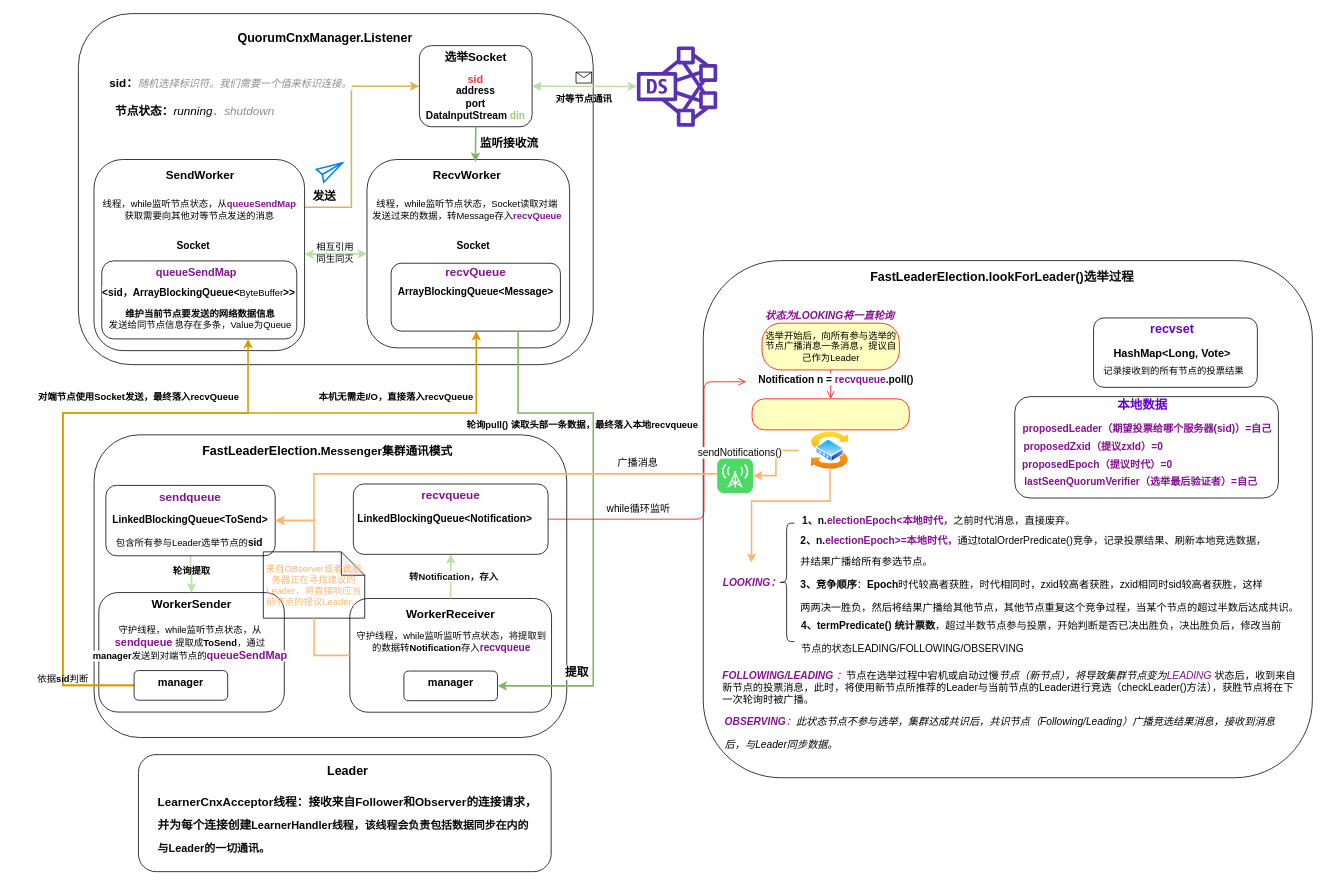
The diagram is 1327 pixels wide and 885 high, and some of its shapes have lost their labels. The centre of each missing label's shape, as x and y in pixels:
"switch (n. state )" belongs at (x=829, y=450).
"validVoter(n.sid) 属于相同轮次选举（n为来自对等节点的消息）" belongs at (x=830, y=414).
"对等节点网络" belongs at (x=676, y=86).
